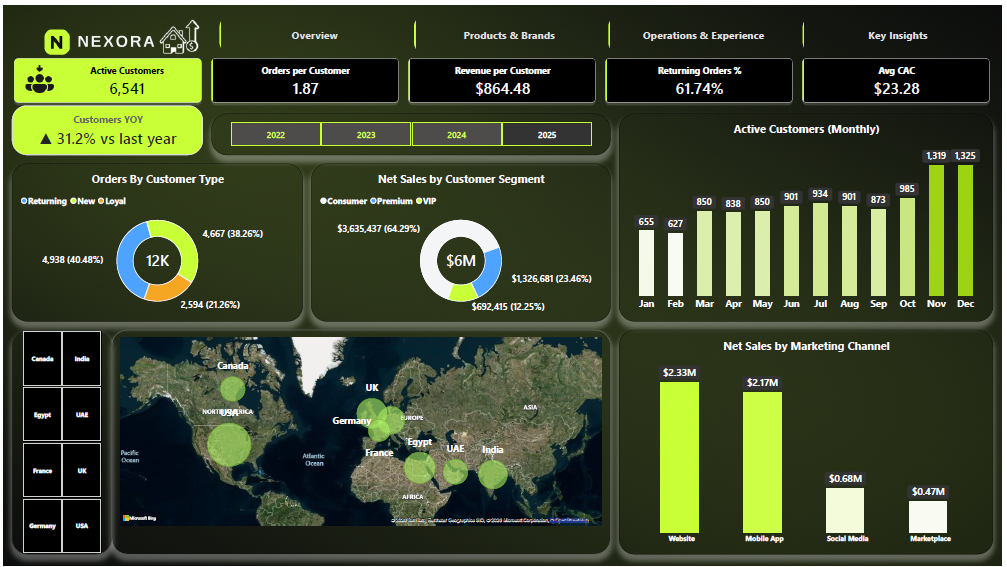

Layout of this report page (visuals, bound fields, positions):
{"tool":"powerbi","page":{"name":"Customers & Marketing","canvas":[1920,1080],"ordinal":3},"visuals":[{"type":"pageNavigator","box":[416,16,1488,80],"z":0},{"type":"actionButton","title":"D_Home Button","box":[16,16,368,80],"z":1000},{"type":"cardVisual","fields":{"Data":["ALL Measures.Active Customers","ALL Measures.Orders per Customer","ALL Measures.Revenue per Customer","ALL Measures.Returning Orders %","ALL Measures.Avg CAC"]},"box":[16,96,1888,96],"z":2000},{"type":"cardVisual","fields":{"Data":["ALL Measures.Customers YoY Label"]},"box":[16,192,368,96],"z":3000},{"type":"slicer","title":"Select Year","fields":{"Values":["Calendar.Date Hierarchy.Year"]},"box":[400,208,768,80],"z":4000},{"type":"donutChart","title":"Net Sales by Customer Segment","fields":{"Category":["Customers.customer_segment"],"Y":["ALL Measures.Net Sales"]},"box":[592,304,576,304],"z":5000},{"type":"columnChart","title":"Active Customers (Monthly)","fields":{"Category":["Calendar.Month"],"Y":["ALL Measures.Active Customers"]},"box":[1184,208,720,400],"z":6000},{"type":"donutChart","title":"Orders By Customer Type","fields":{"Category":["Orders.customer_type"],"Y":["ALL Measures.Total Orders"]},"box":[16,304,560,304],"z":7000},{"type":"map","fields":{"Category":["Customers.customer_country","Customers.customer_city"],"Size":["ALL Measures.Active Customers"]},"box":[208,624,960,432],"z":8000},{"type":"columnChart","title":"Net Sales by Marketing Channel","fields":{"Category":["Orders.sales_channel"],"Y":["ALL Measures.Net Sales"]},"box":[1184,624,720,432],"z":9000},{"type":"slicer","fields":{"Values":["Customers.customer_country"]},"box":[16,624,192,432],"z":10000}]}

Visuals, with their boxes in screenshot pixels (x1, y1, x2, y2), scaled from the page's 1920x1080 canvas onto the 1007x567 screenshot:
pageNavigator: BBox(218, 8, 999, 50)
"D_Home Button" actionButton: BBox(8, 8, 201, 50)
cardVisual - ALL Measures.Active Customers x ALL Measures.Orders per Customer: BBox(8, 50, 999, 101)
cardVisual - ALL Measures.Customers YoY Label: BBox(8, 101, 201, 151)
"Select Year" slicer: BBox(210, 109, 613, 151)
"Net Sales by Customer Segment" donutChart: BBox(310, 160, 613, 319)
"Active Customers (Monthly)" columnChart: BBox(621, 109, 999, 319)
"Orders By Customer Type" donutChart: BBox(8, 160, 302, 319)
map - Customers.customer_country x Customers.customer_city: BBox(109, 328, 613, 554)
"Net Sales by Marketing Channel" columnChart: BBox(621, 328, 999, 554)
slicer - Customers.customer_country: BBox(8, 328, 109, 554)
